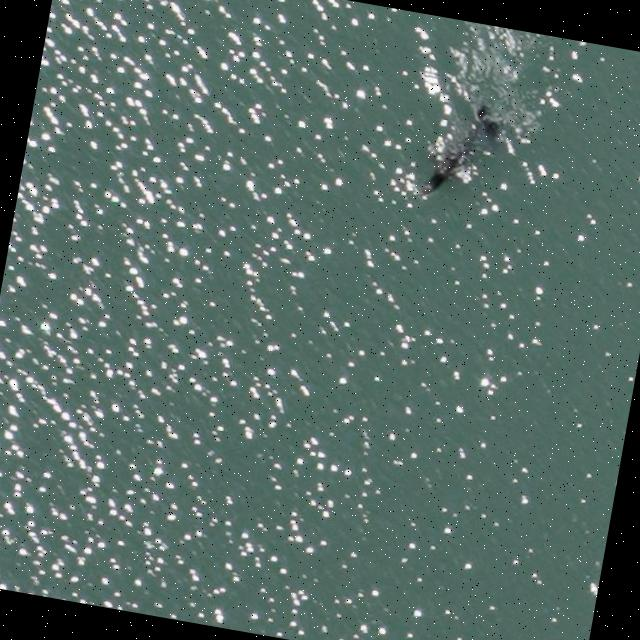seal: (414, 121, 484, 201), (464, 99, 512, 150)
